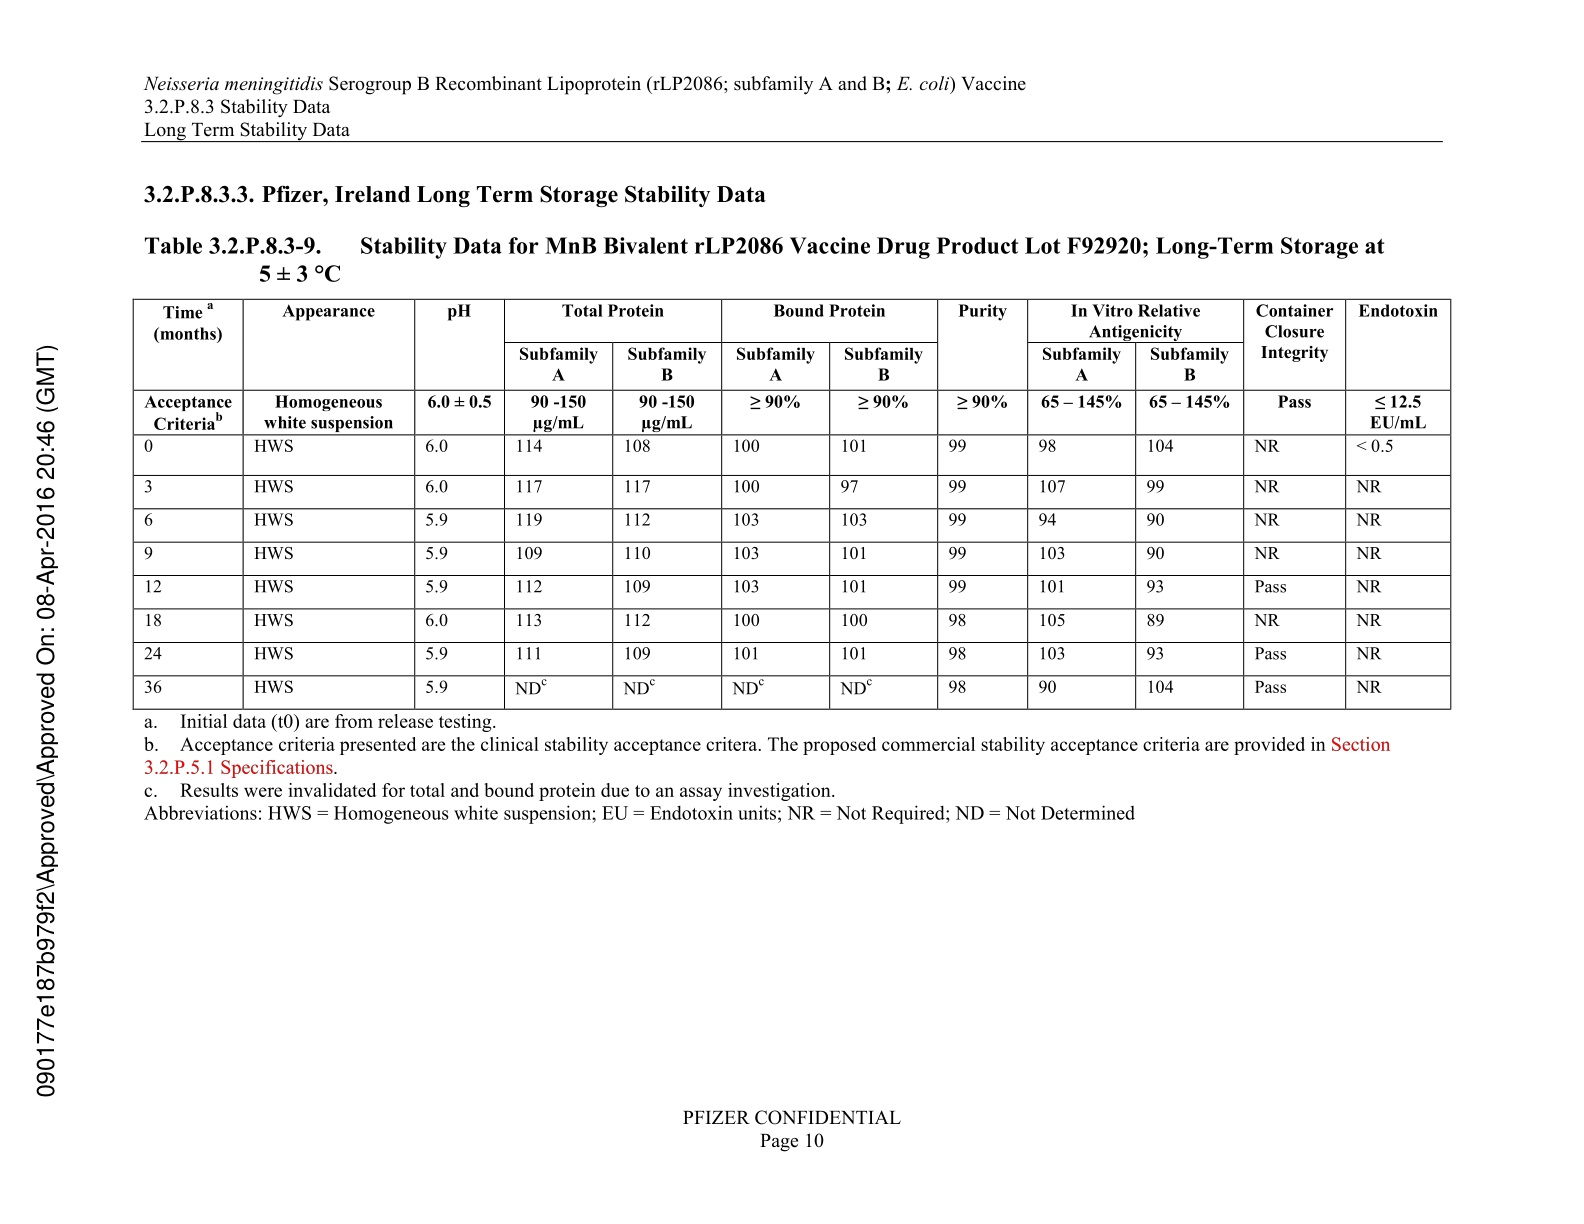merged_cells: (132, 298, 1452, 711)
